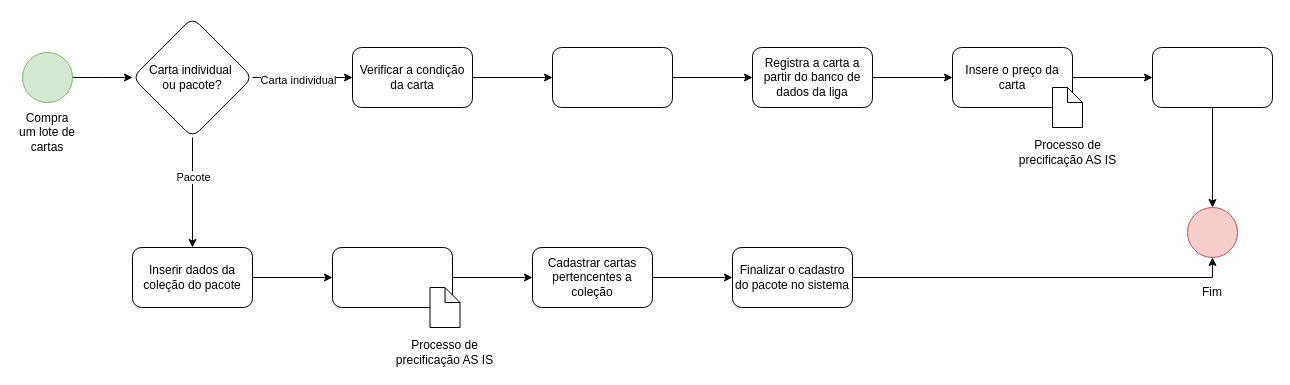
Some shapes in this 1290 by 385 pixel diagram are drawn without their labels. Here are the shapes that lost their labels. From the top down, the box of each, then its label:
(552, 46, 672, 108): Insere dados básicos da carta no sistema
(1152, 46, 1272, 108): Finaliza o cadastro da carta no sistema
(332, 246, 452, 308): Registrar o preço do pacote
